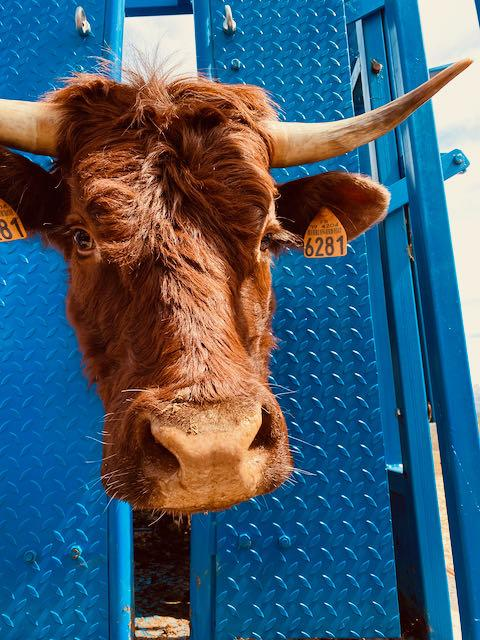muzzles: (91, 394, 308, 518)
